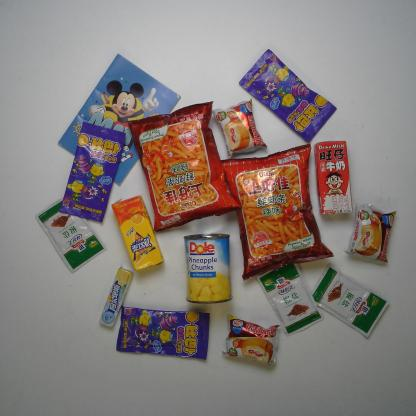Candy: (236, 46, 338, 144), (59, 121, 126, 225), (115, 306, 211, 362), (97, 266, 135, 330)
Canned Food: (180, 232, 235, 306)
Dessert: (212, 98, 267, 161), (343, 201, 398, 264), (221, 312, 281, 368)
Drink: (111, 195, 165, 274)
Milk: (312, 140, 354, 216)
Puffed Food: (126, 96, 243, 233), (221, 142, 333, 282)
Seasoner: (311, 262, 391, 338), (34, 196, 107, 273), (254, 262, 325, 338)
Stationery: (55, 52, 182, 187)
